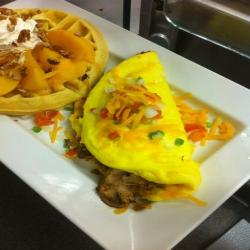chantilly: (1, 14, 49, 61)
omelette: (82, 46, 207, 216)
